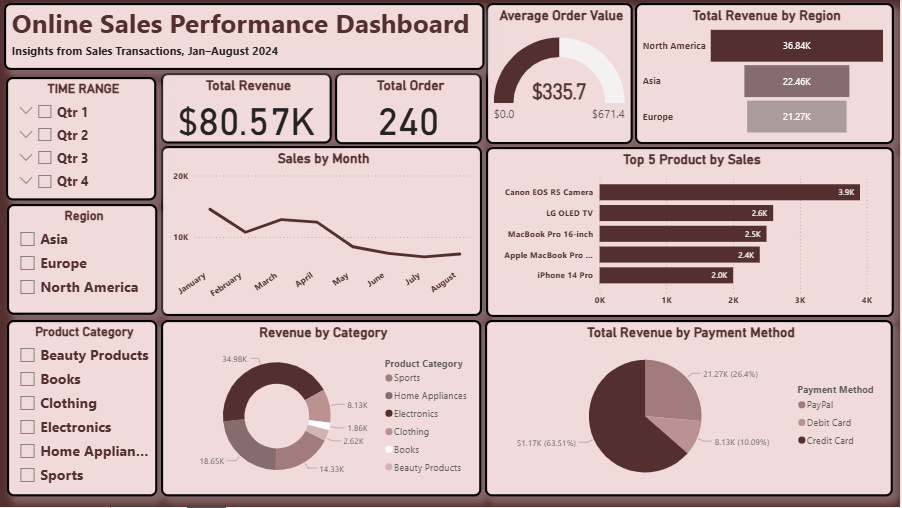

The page's visual inventory and layout, read from the dashboard file:
{"tool":"powerbi","page":{"name":"Page 1","canvas":[1280,720],"ordinal":0},"visuals":[{"type":"card","title":"Total Revenue","fields":{"Values":["Online Sales Data.Total Revenue"]},"box":[233.5,105.3,242.2,100.5],"z":0},{"type":"card","title":"Total Order","fields":{"Values":["Online Sales Data.Total Order"]},"box":[480,105.1,208.3,100.6],"z":1000},{"type":"gauge","title":"Average Order Value","fields":{"Y":["Online Sales Data.Average Order Value"]},"box":[695.1,5.5,207.8,199.6],"z":2000},{"type":"textbox","box":[11,5.5,681.3,95],"z":3000},{"type":"lineChart","title":"Sales by Month","fields":{"Category":["Online Sales Data.Date.Variation.Date Hierarchy.Month"],"Y":["Sum(Online Sales Data.Total Price)"]},"box":[233.4,208.6,455,240.9],"z":4000},{"type":"slicer","title":"TIME RANGE","fields":{"Values":["Online Sales Data.Date.Variation.Date Hierarchy.Quarter","Online Sales Data.Date.Variation.Date Hierarchy.Month","Online Sales Data.Date.Variation.Date Hierarchy.Day"]},"box":[13.8,110.1,213.3,174.8],"z":5000},{"type":"slicer","title":"Region","fields":{"Values":["Online Sales Data.Region"]},"box":[15.1,290.8,212.6,157.3],"z":6000},{"type":"slicer","title":"Product Category","fields":{"Values":["Online Sales Data.Product Category"]},"box":[15.1,455.6,213.3,250.5],"z":7000},{"type":"donutChart","title":"Revenue by Category","fields":{"Y":["Online Sales Data.Total Revenue"],"Category":["Online Sales Data.Product Category"]},"box":[234,455.6,454.2,250.5],"z":8000},{"type":"funnel","fields":{"Y":["Online Sales Data.Total Revenue"],"Category":["Online Sales Data.Region"]},"box":[905.6,5.5,367.5,199.6],"z":9000},{"type":"barChart","title":"Top 5 Product by Sales","fields":{"Category":["Online Sales Data.Product Name"],"Y":["Online Sales Data.Total Revenue"]},"box":[695.1,209.2,578.1,240.9],"z":10000},{"type":"pieChart","fields":{"Y":["Online Sales Data.Total Revenue"],"Category":["Online Sales Data.Payment Method"]},"box":[693.7,455.6,578.1,250.5],"z":11000}]}

Visuals, with their boxes in screenshot pixels (x1, y1, x2, y2), scaled from the page's 1280x720 canvas onto the 902x508 screenshot:
"Total Revenue" card: l=165, t=74, r=335, b=145
"Total Order" card: l=338, t=74, r=485, b=145
"Average Order Value" gauge: l=490, t=4, r=636, b=145
textbox: l=8, t=4, r=488, b=71
"Sales by Month" lineChart: l=164, t=147, r=485, b=317
"TIME RANGE" slicer: l=10, t=78, r=160, b=201
"Region" slicer: l=11, t=205, r=160, b=316
"Product Category" slicer: l=11, t=321, r=161, b=498
"Revenue by Category" donutChart: l=165, t=321, r=485, b=498
funnel - Online Sales Data.Total Revenue x Online Sales Data.Region: l=638, t=4, r=897, b=145
"Top 5 Product by Sales" barChart: l=490, t=148, r=897, b=318
pieChart - Online Sales Data.Total Revenue x Online Sales Data.Payment Method: l=489, t=321, r=896, b=498
